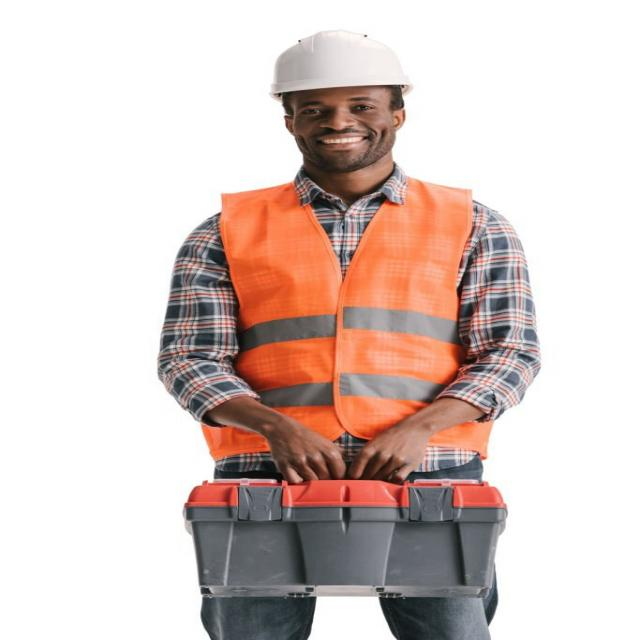Reflective-Jacket: (205, 180, 490, 460)
Safety-Helmet: (261, 24, 420, 100)
